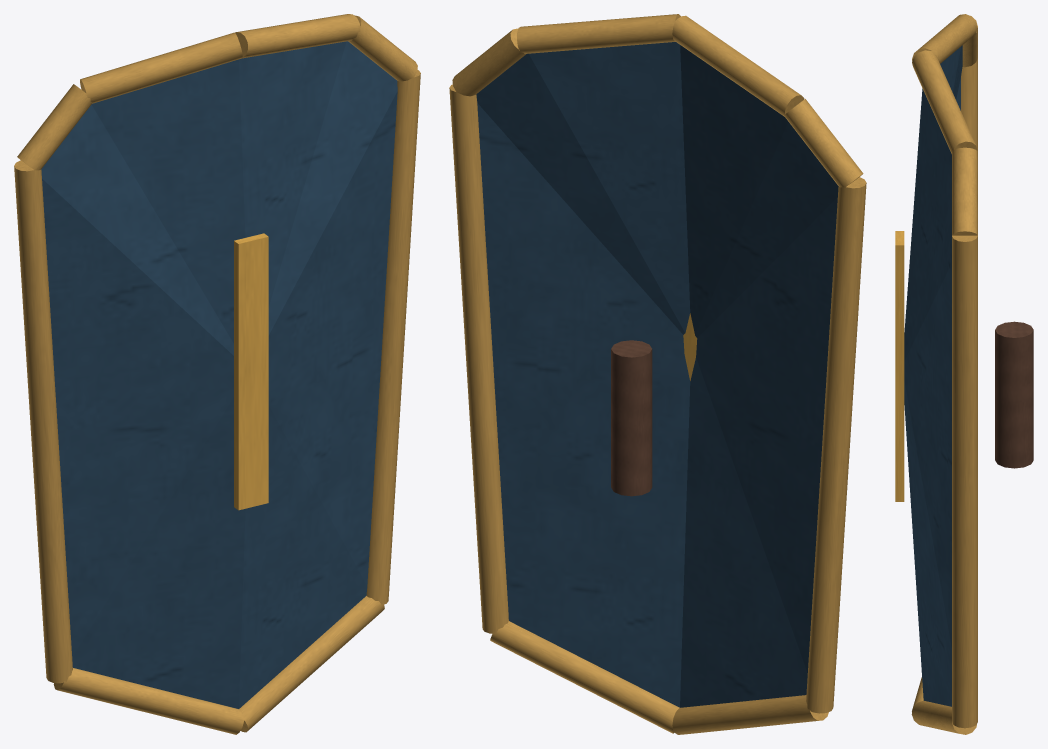
Rendered from TowerShield.glb.
3 renders of one model, left to right at view 1: azimuth 30°, elevation 25°; view 2: azimuth 150°, elevation 25°; view 3: azimuth 270°, elevation 25°, orthographic. The views are drawn at different scales.
Visible parts, largest first — view 1: Shield face, Armoured rim.007, Armoured rim.002, Device stripe, Armoured rim, Armoured rim.005, Armoured rim.001, Armoured rim.004, Armoured rim.006, Armoured rim.003; view 2: Shield face, Armoured rim.007, Armoured rim.002, Grip, Armoured rim.001, Armoured rim.004, Armoured rim.005, Armoured rim, Armoured rim.006, Armoured rim.003; view 3: Shield face, Armoured rim.002, Grip, Armoured rim.004, Device stripe, Armoured rim.003, Armoured rim.005, Armoured rim.001, Armoured rim.007, Armoured rim.006.
Boxes of the visible parts, left/top/right/bottom form: Shield face: left=41, top=41, right=397, bottom=708; Armoured rim.007: left=14, top=160, right=72, bottom=683; Armoured rim.002: left=366, top=70, right=420, bottom=604; Device stripe: left=234, top=233, right=268, bottom=510; Armoured rim: left=53, top=668, right=244, bottom=734; Armoured rim.005: left=80, top=32, right=242, bottom=103; Armoured rim.001: left=239, top=596, right=384, bottom=732; Armoured rim.004: left=235, top=14, right=360, bottom=58; Armoured rim.006: left=17, top=84, right=92, bottom=170; Armoured rim.003: left=348, top=15, right=417, bottom=81; Shield face: left=476, top=42, right=838, bottom=707; Armoured rim.007: left=806, top=177, right=866, bottom=713; Armoured rim.002: left=449, top=84, right=508, bottom=633; Grip: left=611, top=340, right=652, bottom=496; Armoured rim.001: left=490, top=621, right=679, bottom=733; Armoured rim.004: left=517, top=14, right=680, bottom=53; Armoured rim.005: left=672, top=15, right=804, bottom=116; Armoured rim: left=672, top=695, right=828, bottom=734; Armoured rim.006: left=784, top=99, right=863, bottom=187; Armoured rim.003: left=452, top=28, right=525, bottom=96; Shield face: left=904, top=45, right=962, bottom=706; Armoured rim.002: left=952, top=235, right=977, bottom=728; Grip: left=995, top=321, right=1033, bottom=468; Armoured rim.004: left=912, top=50, right=977, bottom=153; Device stripe: left=895, top=231, right=904, bottom=501; Armoured rim.003: left=952, top=147, right=977, bottom=235; Armoured rim.005: left=912, top=14, right=977, bottom=63; Armoured rim.001: left=911, top=700, right=976, bottom=734; Armoured rim.007: left=961, top=58, right=977, bottom=151; Armoured rim.006: left=962, top=17, right=977, bottom=67.
Bounding box in the file's own units: 0.9979 × 1.66 × 0.308.
4 materials, 4 textured.
